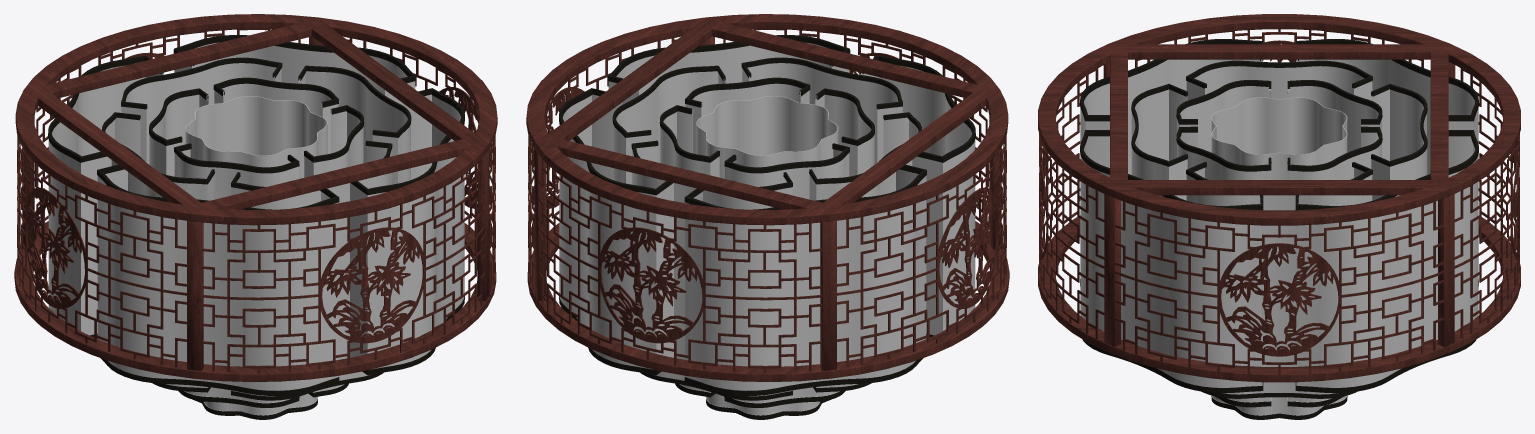
3 renders of one model, left to right at view 1: azimuth 30°, elevation 25°; view 2: azimuth 150°, elevation 25°; view 3: azimuth 270°, elevation 25°, orthographic.
Visible parts, largest first — view 1: XD-吊灯; view 2: XD-吊灯; view 3: XD-吊灯.
Part boxes in pixels (x1=…): XD-吊灯: x1=14, y1=14, x2=497, y2=419; XD-吊灯: x1=526, y1=14, x2=1009, y2=419; XD-吊灯: x1=1038, y1=14, x2=1520, y2=419.
Size of the model in its own units: 1.64 by 1.63 by 1.03.
